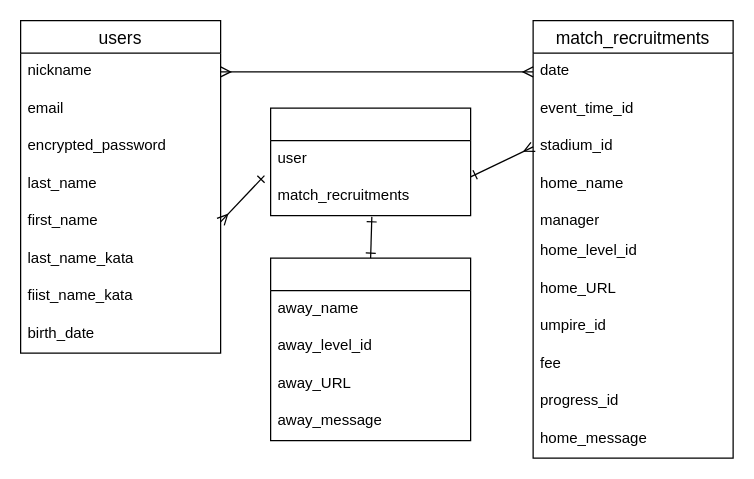
Image size: 754x479. Some labels were removed from this diagram. The shapes that lost their labels are listed below. From the top down, each one's box as (x1, y1, x2, y2) in pixels, then its label:
(269, 107, 471, 216): orders
(269, 257, 471, 441): match_applications
